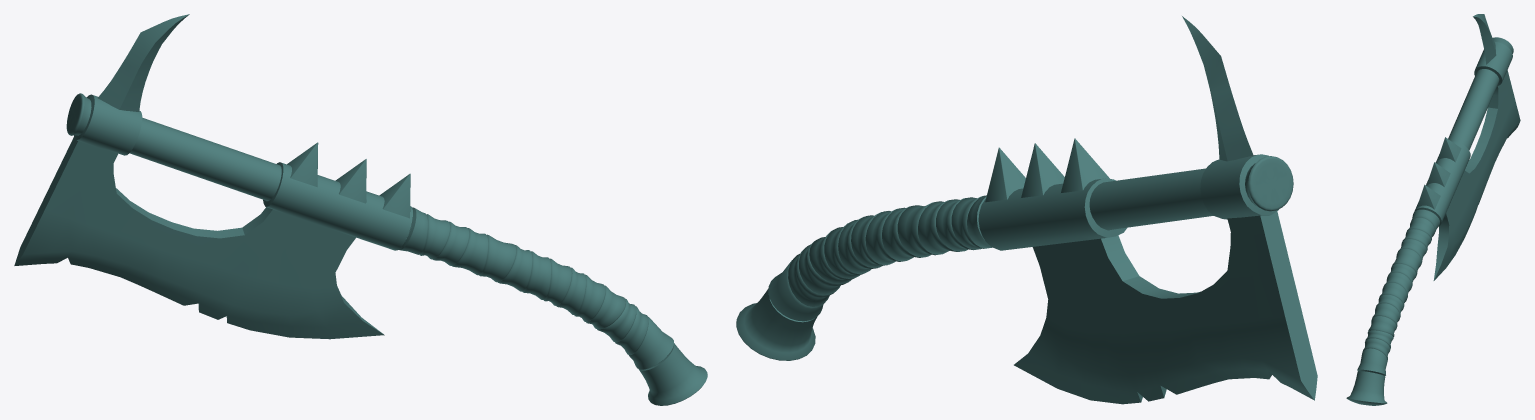
Rendered from ChaosAxeL01.fbx.
3 renders of one model, left to right at view 1: azimuth 30°, elevation 25°; view 2: azimuth 150°, elevation 25°; view 3: azimuth 270°, elevation 25°, orthographic. The views are drawn at different scales.
Parts seen in each view (by area): view 1: ChaosAxeLP; view 2: ChaosAxeLP; view 3: ChaosAxeLP.
Part boxes in pixels (left/top/right/bottom): ChaosAxeLP: left=14, top=14, right=707, bottom=405; ChaosAxeLP: left=736, top=16, right=1317, bottom=404; ChaosAxeLP: left=1346, top=14, right=1520, bottom=405.
Bounding box in the file's own units: 1476 × 1044 × 616.
